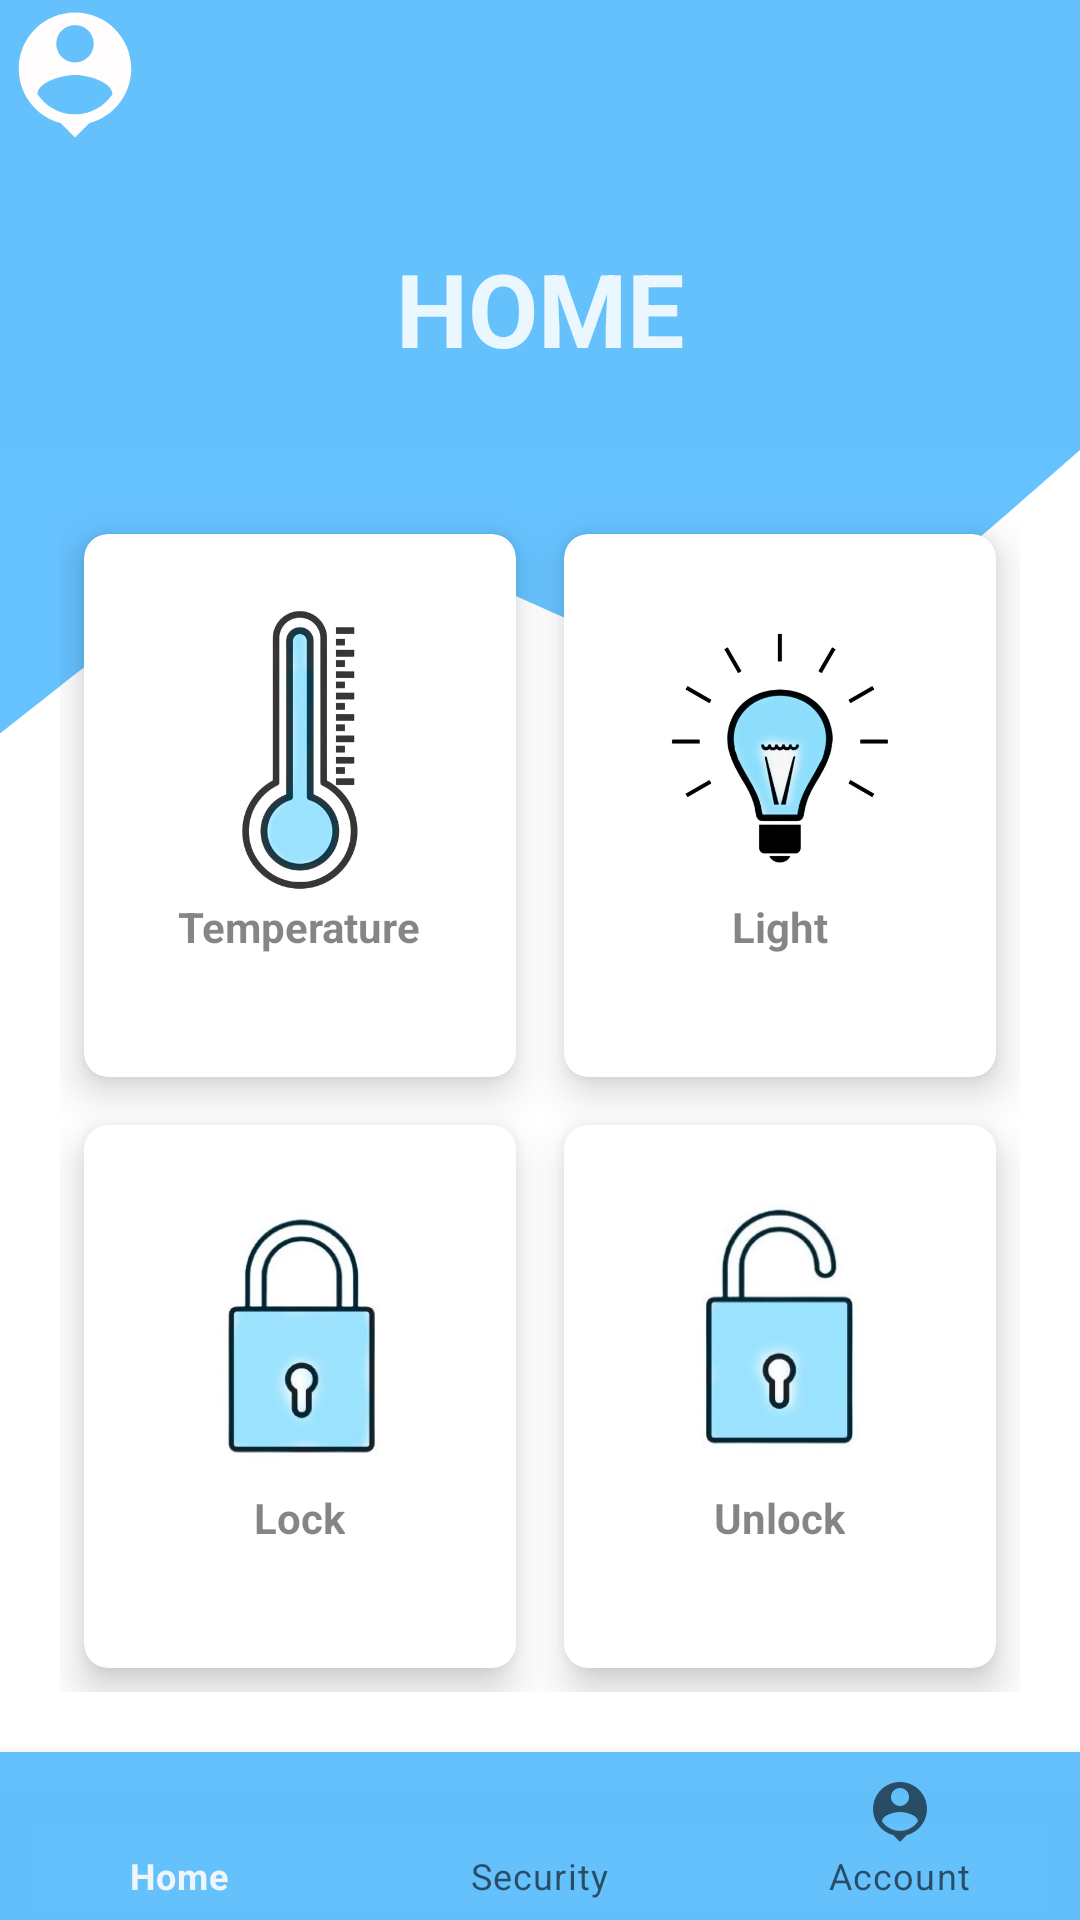

Point at icon controls on the screen. Image size 1080w x 1920h, points as (x=x, y=y).
person pin: (x=75, y=74)
